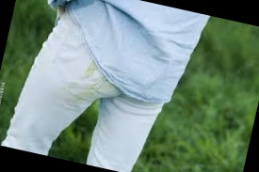earth: (80, 82, 102, 101), (86, 59, 94, 77)
